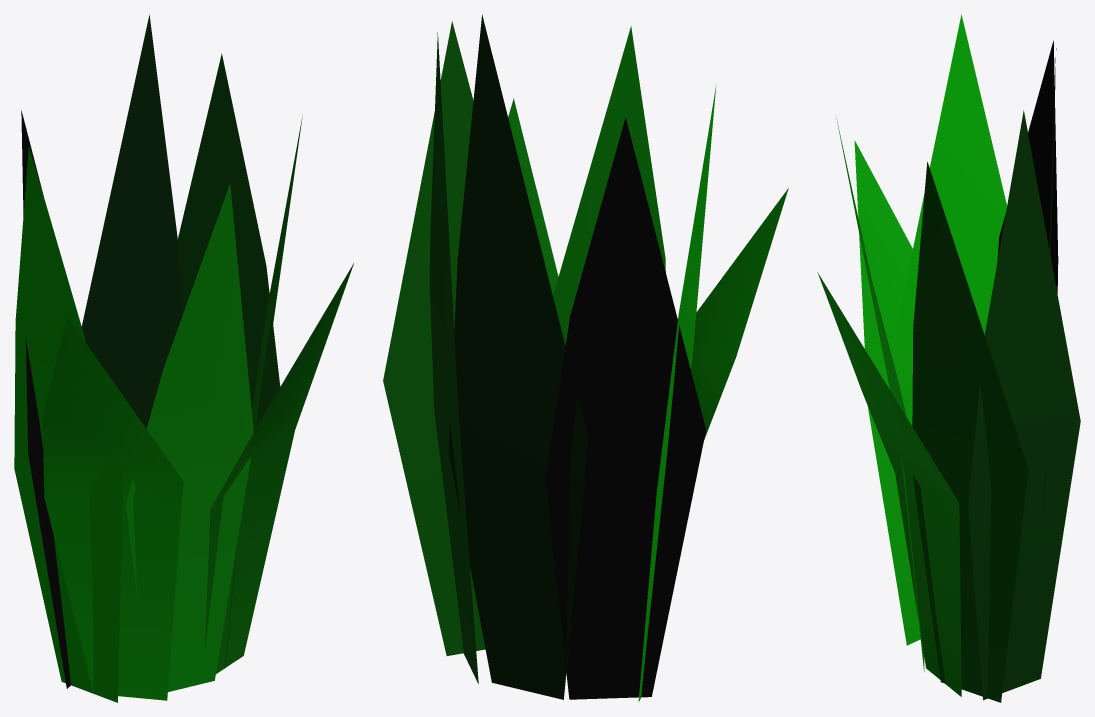
File: grass.fbx
3 views of the same model, side by side, from view 1: azimuth 30°, elevation 25°; view 2: azimuth 150°, elevation 25°; view 3: azimuth 270°, elevation 25° (orthographic). The views are drawn at different scales.
Visible parts, largest first — view 1: Plane.007; view 2: Plane.007; view 3: Plane.007.
Boxes of the visible parts, box(x1,y1,x2,y2) form: Plane.007: box(14, 14, 353, 702); Plane.007: box(383, 14, 788, 701); Plane.007: box(817, 14, 1080, 702).
Size of the model in its own units: 4.23 by 8.8 by 3.31.
